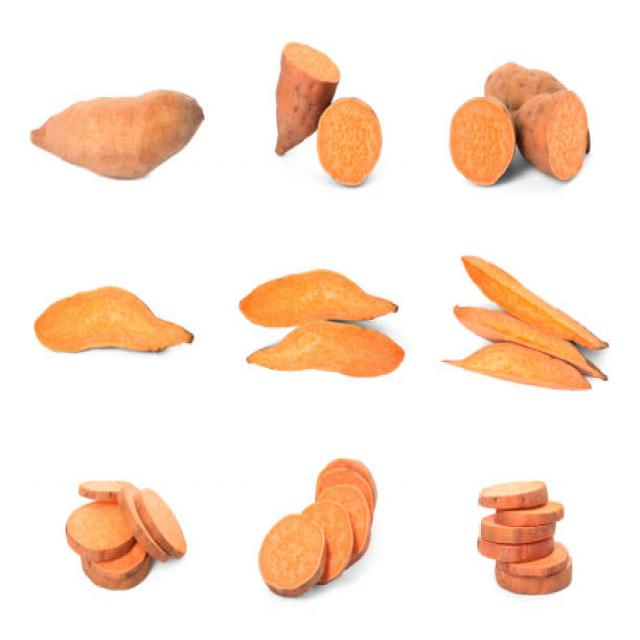Sweet Potato: (26, 86, 206, 181), (32, 283, 192, 355), (247, 323, 406, 379), (239, 266, 400, 320), (520, 91, 586, 182), (315, 98, 382, 186), (257, 511, 325, 596), (450, 98, 515, 186), (272, 41, 312, 161)
